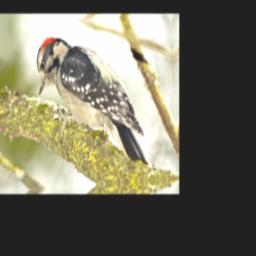Woodpecker: (35, 27, 158, 178)
